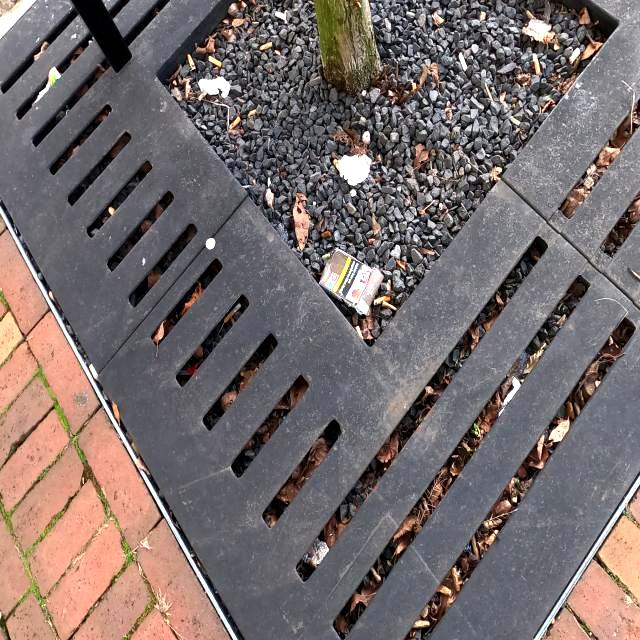Paper: (318, 246, 384, 316), (336, 152, 372, 185), (197, 75, 231, 99)
Plastic: (32, 65, 62, 103)
